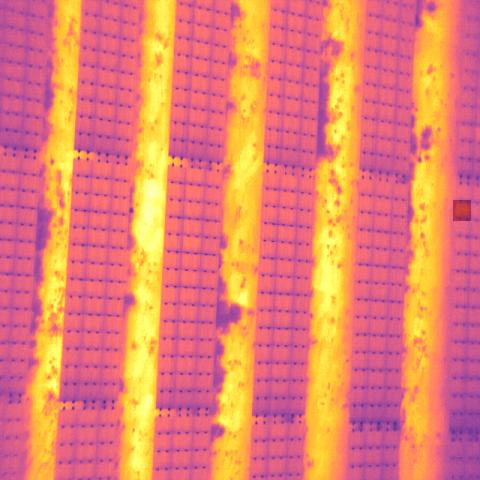fault: (454, 201, 471, 221)
